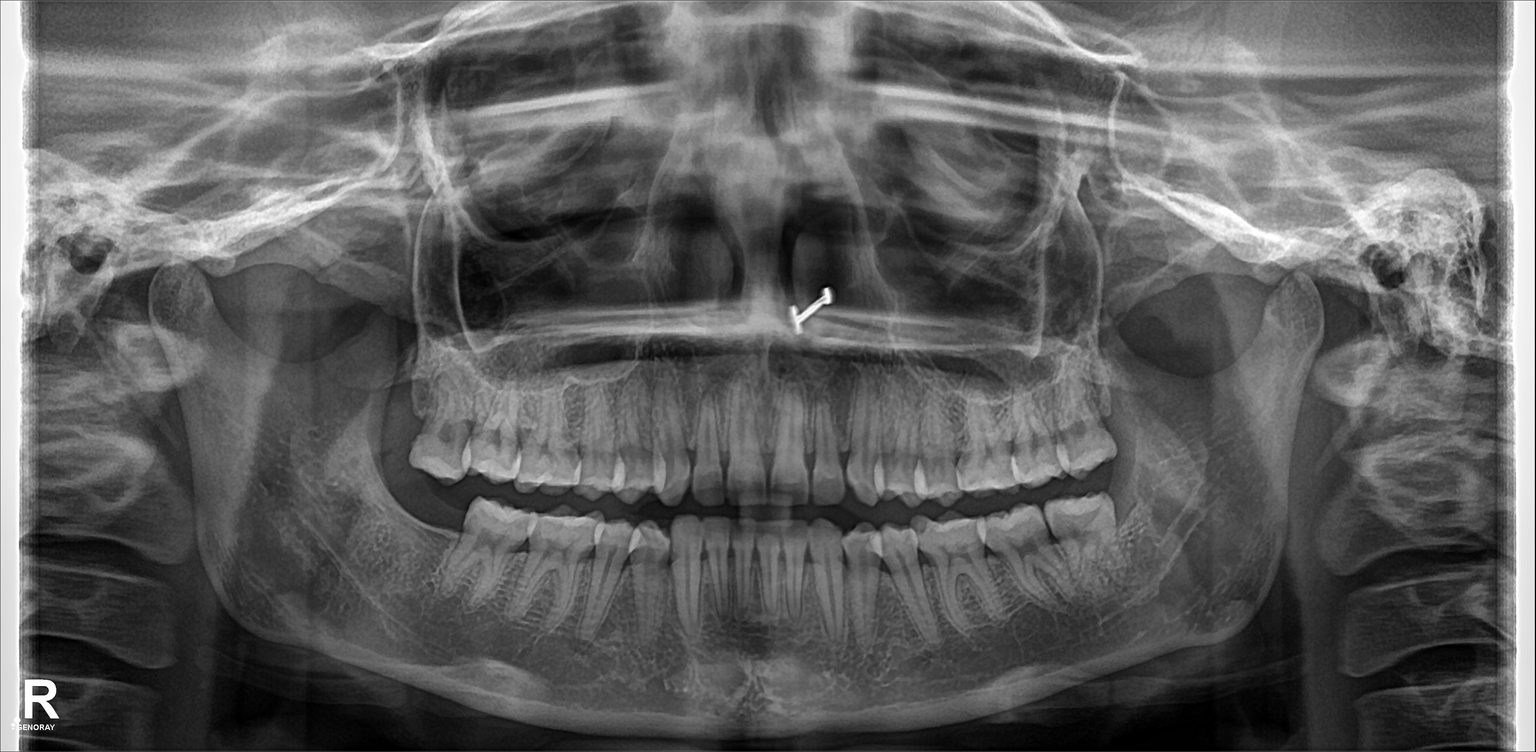Missing Tooth: (413, 488, 460, 587), (384, 367, 425, 460)
